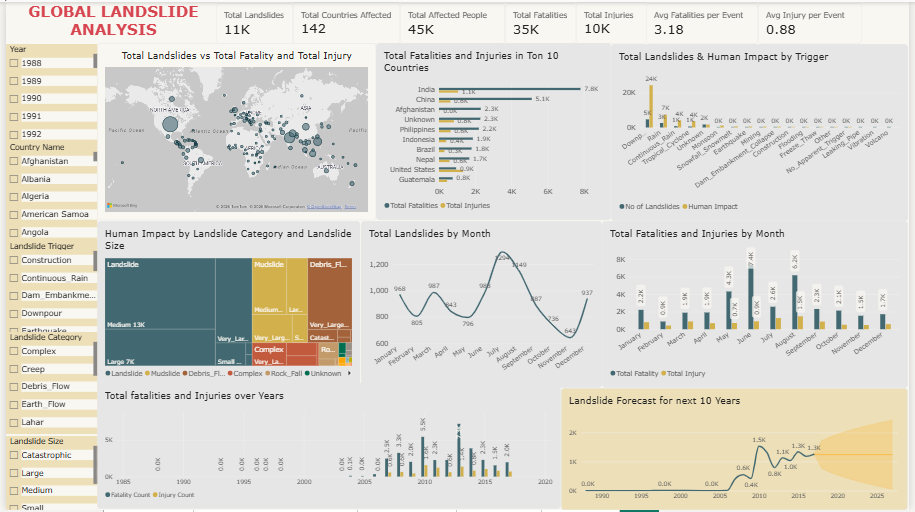

The dashboard page shown, as its layout file describes it:
{"tool":"powerbi","page":{"name":"Report","canvas":[1920,1080],"ordinal":4},"visuals":[{"type":"textbox","box":[10.6,0,435.8,89.3],"z":0},{"type":"cardVisual","fields":{"Data":["Measure.Total Events Occured"]},"box":[446.5,2.1,163.7,87.2],"z":1},{"type":"cardVisual","fields":{"Data":["Measure.Total Countries Affected"]},"box":[610.2,0,227.5,89.3],"z":2},{"type":"cardVisual","fields":{"Data":["Measure.Total Affected People"]},"box":[837.6,2.1,223.2,87.2],"z":3},{"type":"cardVisual","fields":{"Data":["Measure.Total Fatality Count"]},"box":[1060.9,2.1,150.9,87.2],"z":4},{"type":"cardVisual","fields":{"Data":["Measure.Total Injury Count"]},"box":[1211.8,0,150.9,89.3],"z":5},{"type":"cardVisual","fields":{"Data":["Measure.Avg Fatalities per Event"]},"box":[1362.8,2.1,238.1,87.2],"z":6},{"type":"cardVisual","fields":{"Data":["Measure.Avg Injury per Event"]},"box":[1600.9,2.1,221.1,87.2],"z":7},{"type":"map","title":"Total Landslides vs Total Fatality and Total Injury","fields":{"Category":["Impact.Country Name"],"Size":["CountNonNull(Impact.Event Id)"]},"box":[193.6,87.2,593.6,376.6],"z":8},{"type":"clusteredBarChart","title":"Total Fatalities and Injuries in Ton 10 Countries","fields":{"Category":["Location.Country Name"],"Y":["Sum(Impact.Fatality Count)","Sum(Impact.Injury Count)"]},"box":[787.2,87.2,500,376.6],"z":9},{"type":"clusteredColumnChart","title":"Total Landslides & Human Impact by Trigger","fields":{"Category":["Impact.Landslide Trigger"],"Y":["CountNonNull(Impact.Event Id)","Sum(Impact.Human Impact)"]},"box":[1287.2,89.4,631.9,376.6],"z":10},{"type":"treemap","fields":{"Details":["Global Landslide.Landslide Size"],"Group":["Global Landslide.Landslide Category"],"Values":["Sum(Impact.Human Impact)"]},"box":[193.6,466,559.6,355.3],"z":11},{"type":"lineChart","fields":{"Category":["Impact.Event Date.Variation.Date Hierarchy.Month"],"Y":["CountNonNull(Impact.Event Id)"]},"box":[755.3,466,512.8,355.3],"z":12},{"type":"lineClusteredColumnComboChart","title":"Total Fatalities and Injuries by Month","fields":{"Category":["Global Landslide.Event Date.Variation.Date Hierarchy.Month"],"Y":["Sum(Global Landslide.Fatality Count)","Sum(Global Landslide.Injury Count)"]},"box":[1268.1,466,651.1,355.3],"z":13},{"type":"clusteredColumnChart","title":"Total fatalities and Injuries over Years","fields":{"Category":["Global Landslide.Event Date.Variation.Date Hierarchy.Year"],"Y":["Sum(Impact.Fatality Count)","Sum(Impact.Injury Count)"]},"box":[193.6,810.6,987.2,268.1],"z":14},{"type":"lineChart","title":"Landslide Forecast for next 10 Years","fields":{"Category":["Impact.Event Date.Variation.Date Hierarchy.Year"],"Y":["CountNonNull(Impact.Event Id)"]},"box":[1180.9,821.3,738.3,259.6],"z":15},{"type":"slicer","fields":{"Values":["Location.Country Name"]},"box":[0,297.9,193.6,210.6],"z":16},{"type":"slicer","fields":{"Values":["Impact.Landslide Trigger"]},"box":[0,508.5,193.6,193.6],"z":17},{"type":"slicer","fields":{"Values":["Global Landslide.Landslide Category"]},"box":[0,702.1,193.6,217],"z":18},{"type":"slicer","fields":{"Values":["Impact.Landslide Size"]},"box":[0,923.4,193.6,157.4],"z":19},{"type":"slicer","fields":{"Values":["Impact.Event Date.Variation.Date Hierarchy.Year"]},"box":[0,89.4,193.6,208.5],"z":20}]}

Visuals, with their boxes in screenshot pixels (x1, y1, x2, y2), scaled from the page's 1920x1080 canvas onto the 915x512 screenshot:
textbox: 5,0,213,42
cardVisual - Measure.Total Events Occured: 213,1,291,42
cardVisual - Measure.Total Countries Affected: 291,0,399,42
cardVisual - Measure.Total Affected People: 399,1,506,42
cardVisual - Measure.Total Fatality Count: 506,1,577,42
cardVisual - Measure.Total Injury Count: 577,0,649,42
cardVisual - Measure.Avg Fatalities per Event: 649,1,763,42
cardVisual - Measure.Avg Injury per Event: 763,1,868,42
"Total Landslides vs Total Fatality and Total Injury" map: 92,41,375,220
"Total Fatalities and Injuries in Ton 10 Countries" clusteredBarChart: 375,41,613,220
"Total Landslides & Human Impact by Trigger" clusteredColumnChart: 613,42,914,221
treemap - Global Landslide.Landslide Size x Global Landslide.Landslide Category: 92,221,359,389
lineChart - Impact.Event Date.Variation.Date Hierarchy.Month x CountNonNull(Impact.Event Id): 360,221,604,389
"Total Fatalities and Injuries by Month" lineClusteredColumnComboChart: 604,221,914,389
"Total fatalities and Injuries over Years" clusteredColumnChart: 92,384,563,511
"Landslide Forecast for next 10 Years" lineChart: 563,389,914,511
slicer - Location.Country Name: 0,141,92,241
slicer - Impact.Landslide Trigger: 0,241,92,333
slicer - Global Landslide.Landslide Category: 0,333,92,436
slicer - Impact.Landslide Size: 0,438,92,511
slicer - Impact.Event Date.Variation.Date Hierarchy.Year: 0,42,92,141
